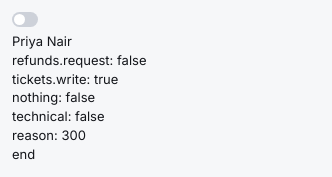
the session › starts with technical details off, and turns them on where the demonstration offers them
The width and height of the screenshot is (332, 177).
Check: the text "technical: false" is shown, box [12,108,105,124]
Click the switch named "Technical details" at (25, 20), box [12,12,38,27]
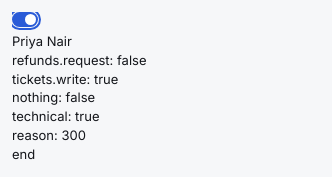
Check: the text "technical: true" is shown, box [12,108,100,124]
